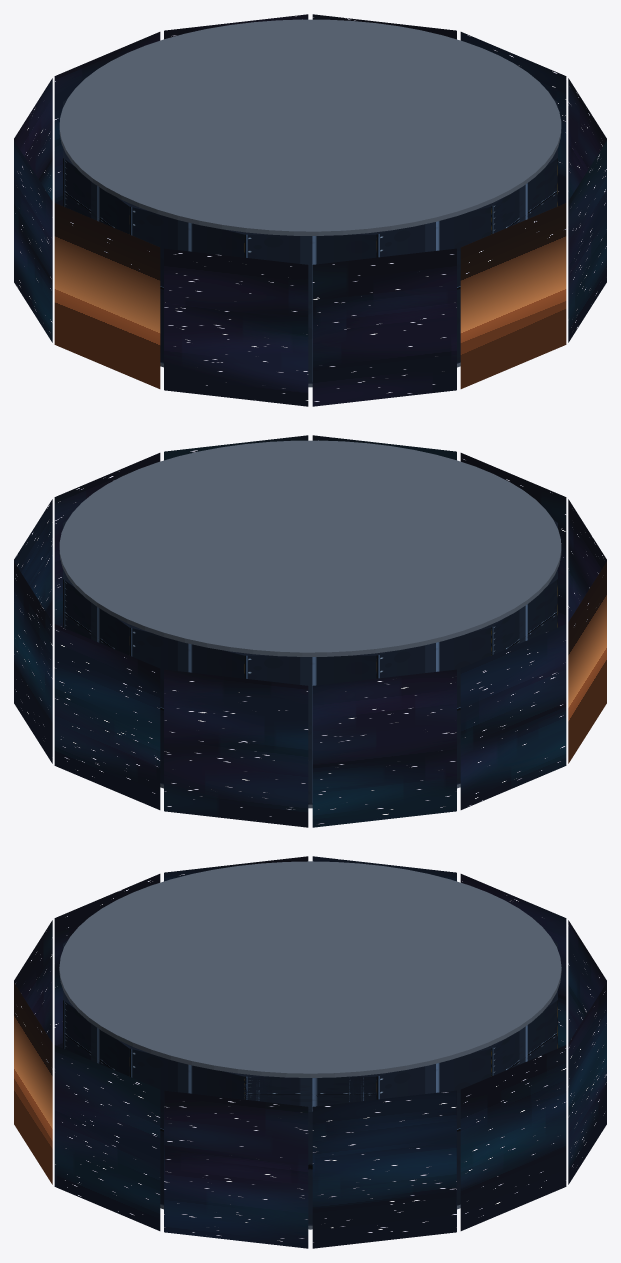
File: space-bay.glb
3 renders of one model, top to bottom at view 1: azimuth 30°, elevation 25°; view 2: azimuth 150°, elevation 25°; view 3: azimuth 270°, elevation 25°, orthographic.
Parts seen in each view (by area): view 1: Ceiling, VistaEarth, VistaMars, WallPanel11, WallPanel10, WallPanel0, WallWin1_Header, WallWin9_Header; view 2: VistaEarth, Ceiling, VistaMars, WallPanel7, WallPanel8, WallPanel6, WallWin5_Header, WallWin9_Header; view 3: VistaEarth, Ceiling, VistaMars, WallPanel2, WallPanel4, DoorHeader, WallWin1_Header, WallWin5_Header, DoorSide1, BayDoor.
Boxes of the visible parts, <box> form: Ceiling: <box>59,19,561,235</box>; VistaEarth: <box>14,14,606,406</box>; VistaMars: <box>54,203,566,388</box>; WallPanel11: <box>244,232,376,382</box>; WallPanel10: <box>129,204,245,362</box>; WallPanel0: <box>374,204,491,362</box>; WallWin1_Header: <box>487,158,557,234</box>; WallWin9_Header: <box>63,158,131,234</box>; VistaEarth: <box>14,435,606,827</box>; Ceiling: <box>59,440,561,656</box>; VistaMars: <box>568,562,606,763</box>; WallPanel7: <box>244,653,376,803</box>; WallPanel8: <box>375,625,491,783</box>; WallPanel6: <box>129,626,244,783</box>; WallWin5_Header: <box>63,578,132,655</box>; WallWin9_Header: <box>489,578,557,655</box>; VistaEarth: <box>14,856,606,1248</box>; Ceiling: <box>59,861,561,1077</box>; VistaMars: <box>14,983,52,1184</box>; WallPanel2: <box>129,1047,244,1204</box>; WallPanel4: <box>376,1047,491,1204</box>; DoorHeader: <box>244,1074,376,1111</box>; WallWin1_Header: <box>63,999,131,1076</box>; WallWin5_Header: <box>489,1000,557,1076</box>; DoorSide1: <box>349,1076,376,1102</box>; BayDoor: <box>308,1112,312,1223</box>.
Size of the model in its own units: 36.37 by 10.55 by 36.37.
16 materials, 11 textured.
